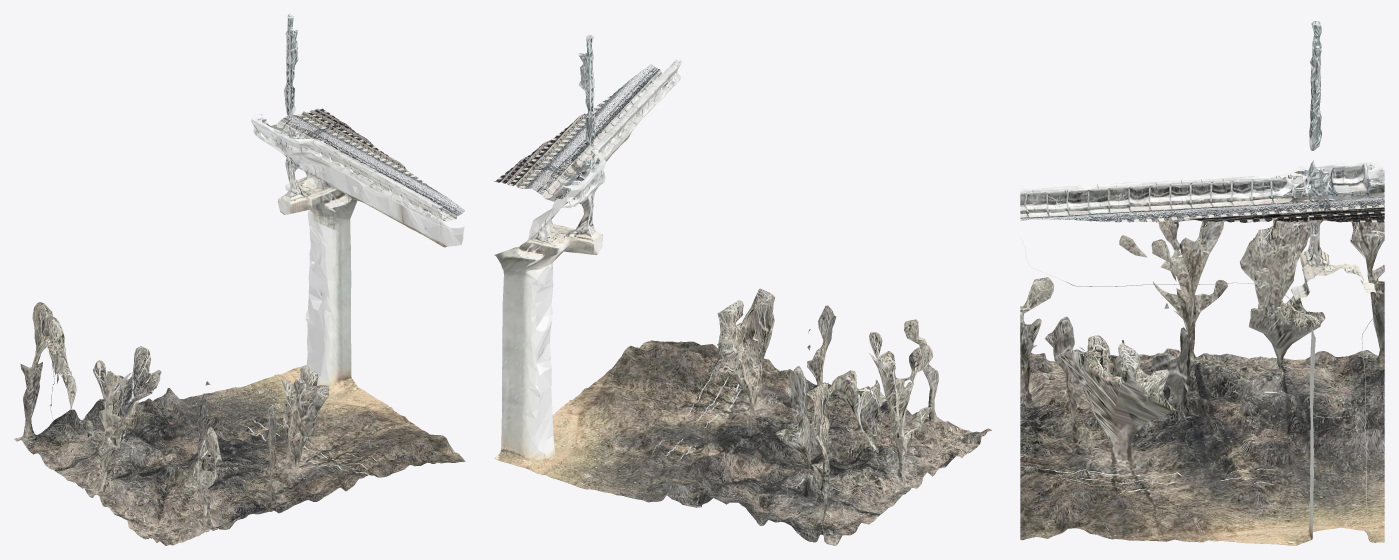
Rendered from Block_L20_305.glb.
The picture shows the model from 3 angles, left to right: view 1: azimuth 30°, elevation 25°; view 2: azimuth 150°, elevation 25°; view 3: azimuth 270°, elevation 25°; orthographic projection. The views are drawn at different scales.
Visible parts, largest first — view 1: rtc; view 2: rtc; view 3: rtc.
Part boxes in pixels (x1,y1,x2,y2): rtc: (14,14,465,545); rtc: (494,35,991,545); rtc: (1020,21,1384,545).
Size of the model in its own units: 22.09 by 26.55 by 17.65.
Materials: 5 (5 with a texture image).
